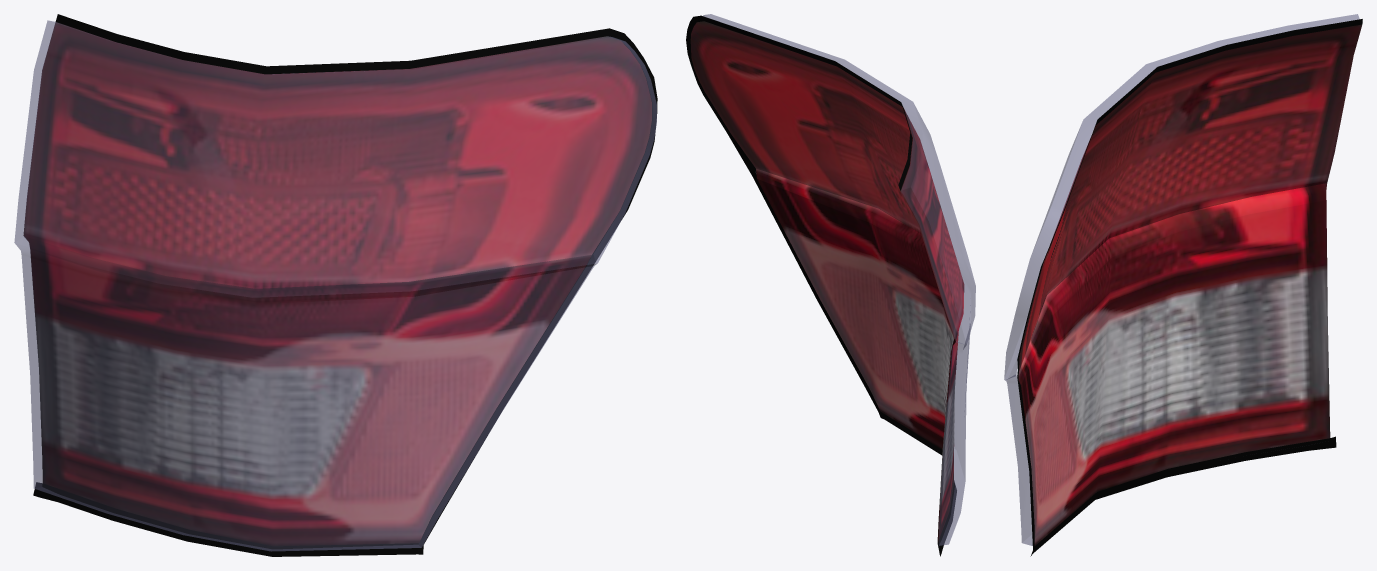
The picture shows the model from 3 angles, left to right: view 1: azimuth 30°, elevation 25°; view 2: azimuth 150°, elevation 25°; view 3: azimuth 270°, elevation 25°; orthographic projection. The views are drawn at different scales.
Parts seen in each view (by area): view 1: J733_541C_R_J733_541C_R_1_DTaSI, J733_541C_R_J733_541C_R_2_N, J733_541C_R_3_D_J733_541C_R; view 2: J733_541C_R_J733_541C_R_2_N, J733_541C_R_J733_541C_R_1_DTaSI, J733_541C_R_3_D_J733_541C_R; view 3: J733_541C_R_J733_541C_R_2_N, J733_541C_R_J733_541C_R_1_DTaSI, J733_541C_R_3_D_J733_541C_R.
Boxes of the visible parts, x1=… form: J733_541C_R_J733_541C_R_1_DTaSI: x1=14, y1=20, x2=656, y2=551; J733_541C_R_J733_541C_R_2_N: x1=23, y1=22, x2=651, y2=546; J733_541C_R_3_D_J733_541C_R: x1=33, y1=14, x2=657, y2=556; J733_541C_R_J733_541C_R_2_N: x1=690, y1=21, x2=964, y2=542; J733_541C_R_J733_541C_R_1_DTaSI: x1=703, y1=14, x2=975, y2=545; J733_541C_R_3_D_J733_541C_R: x1=686, y1=15, x2=956, y2=556; J733_541C_R_J733_541C_R_2_N: x1=1018, y1=24, x2=1361, y2=545; J733_541C_R_J733_541C_R_1_DTaSI: x1=1004, y1=14, x2=1359, y2=545; J733_541C_R_3_D_J733_541C_R: x1=1017, y1=19, x2=1362, y2=556.
Bounding box in the file's own units: 25.29 × 22.62 × 16.42.
